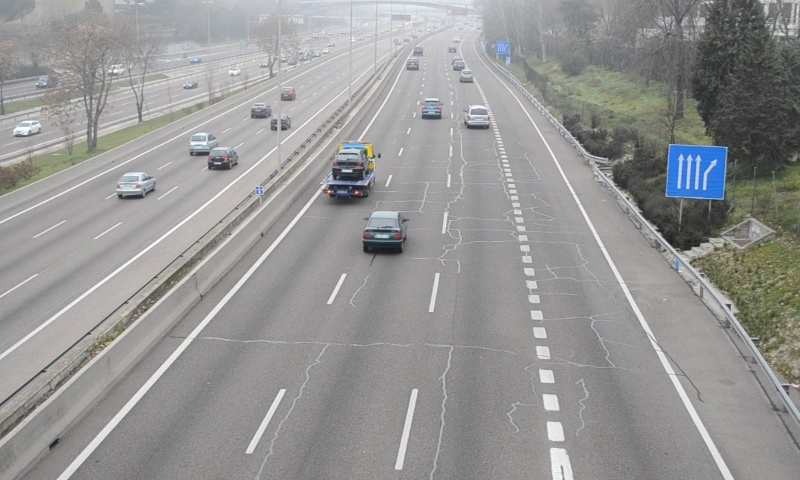car: (362, 210, 405, 248), (464, 104, 491, 128), (420, 98, 443, 118), (458, 67, 475, 82), (406, 56, 418, 70)
small-truck: (323, 142, 376, 198)
